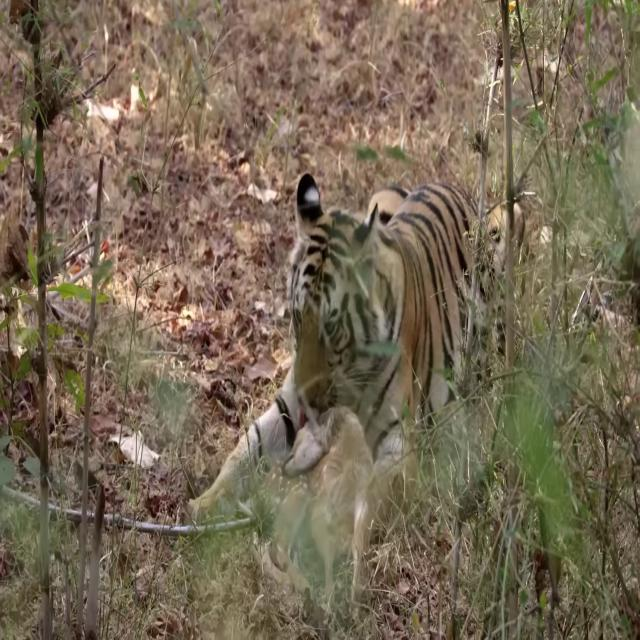tiger: (189, 172, 525, 540)
